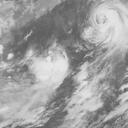cyclone: (82, 1, 126, 47)
